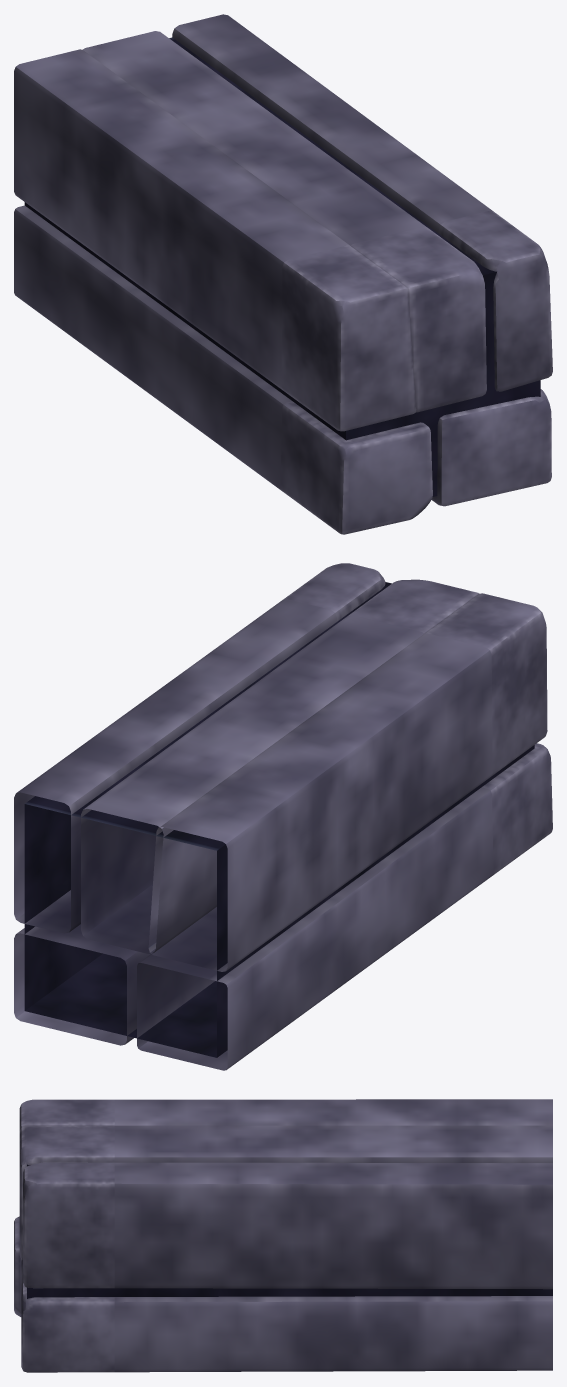
File: Promenade_Fill_B.fbx
3 renders of one model, top to bottom at view 1: azimuth 30°, elevation 25°; view 2: azimuth 150°, elevation 25°; view 3: azimuth 270°, elevation 25°, orthographic. The views are drawn at different scales.
Visible parts, largest first — view 1: Promenade_Fill_B; view 2: Promenade_Fill_B; view 3: Promenade_Fill_B.
Boxes of the visible parts, bbox=[...] form: Promenade_Fill_B: bbox=[14, 14, 552, 534]; Promenade_Fill_B: bbox=[14, 563, 552, 1070]; Promenade_Fill_B: bbox=[14, 1099, 552, 1372].
Bounding box in the file's own units: 0.9716 × 0.9873 × 2.52.
